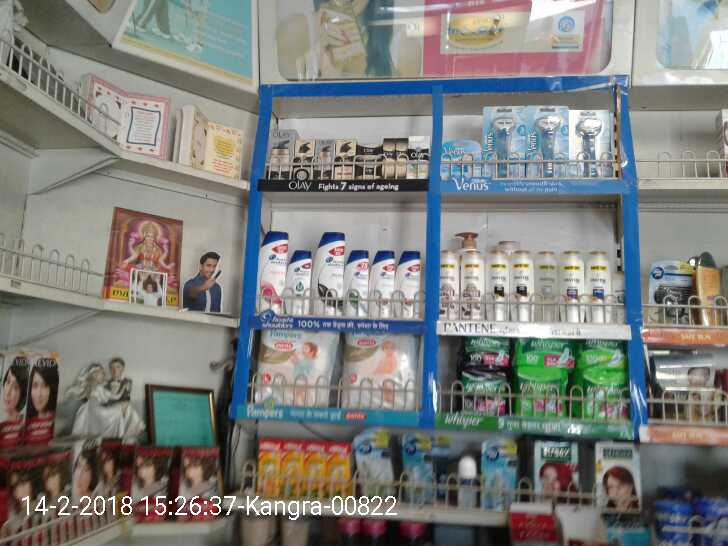ambipureVesus: (647, 259, 695, 323), (356, 434, 400, 497), (404, 438, 449, 496), (481, 444, 518, 506)
venus: (479, 102, 526, 178), (526, 102, 573, 175), (574, 110, 611, 175), (444, 144, 479, 178)
